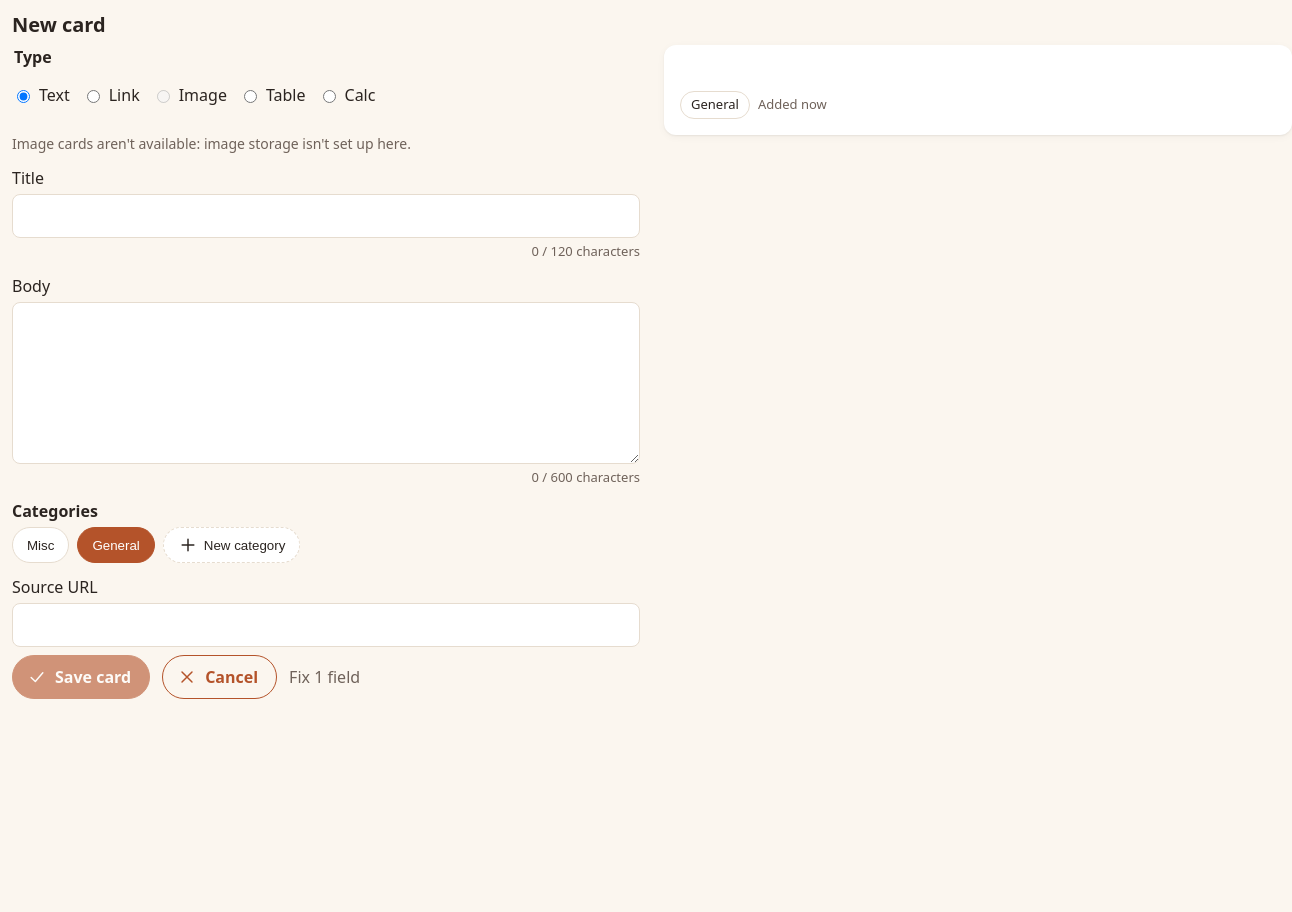
CardEditor: create › shows "New card" and a type picker that keeps the title when switching
Expected: the heading "New card" is shown, [12,11,106,38]
Type "Recipe" into the field labelled "Title" at (326, 216), box [12,194,640,238]
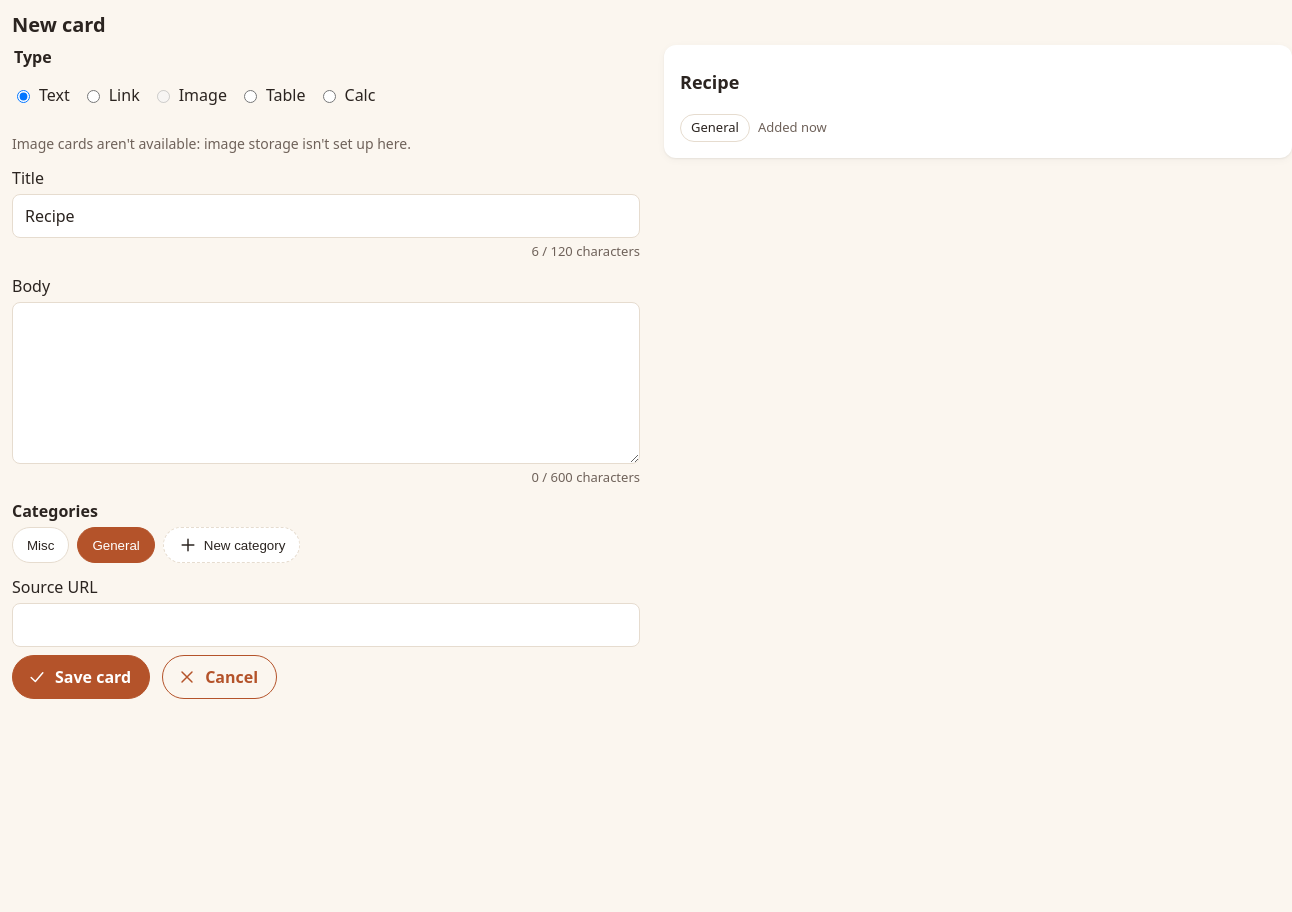
Click the radio button labelled "Link" at (93, 96), box [87,90,100,103]
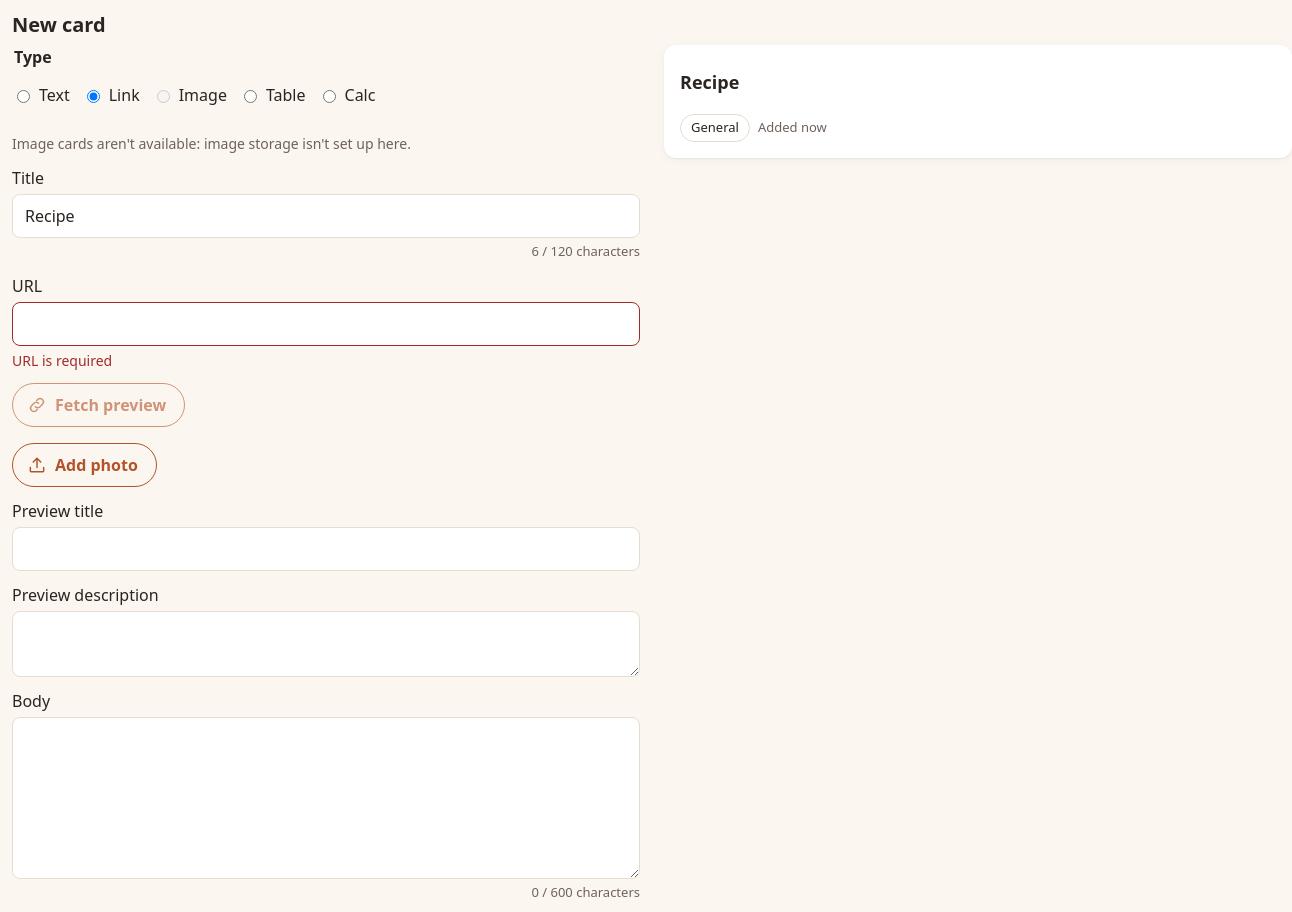
Expected: the field labelled "URL" is shown, [12,302,640,346]
